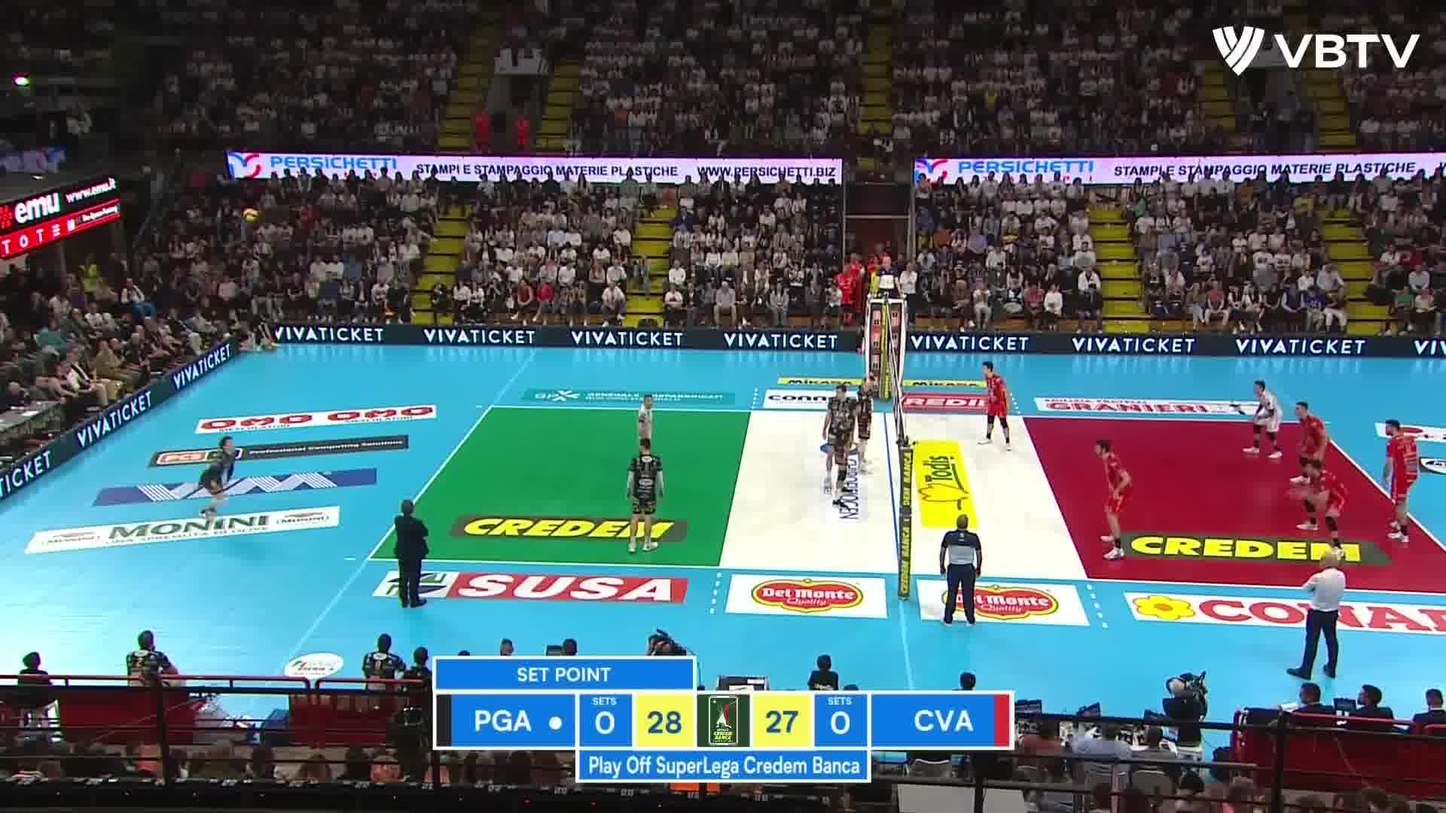balls: (244, 206, 260, 224)
